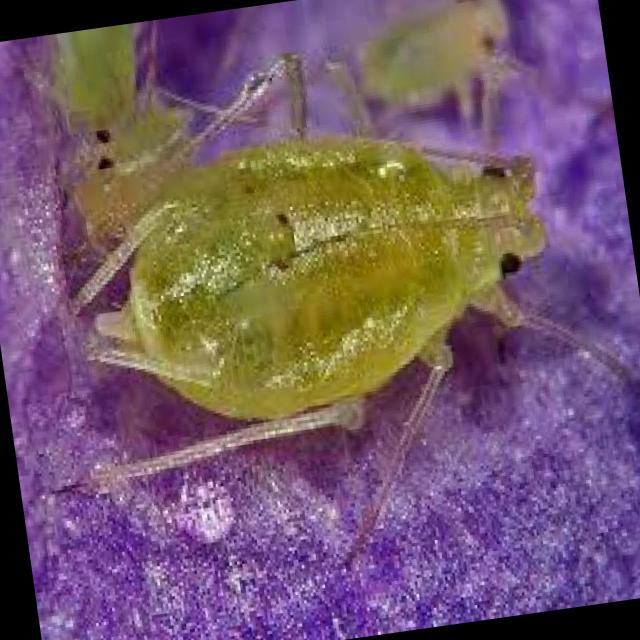aphid: (65, 71, 598, 513)
